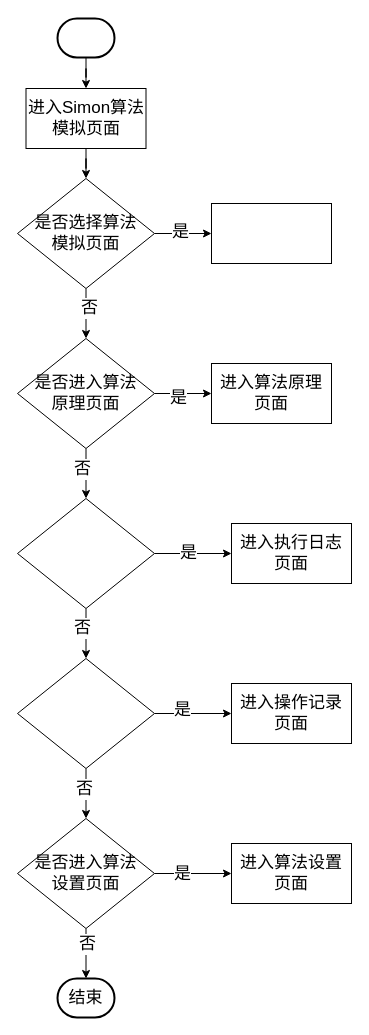
This 369x1035 diagram has some shape labels left out. The centre of each missing label's shape, as x and y in pixels:
"开始" belongs at (85,37).
"是否进入执行 日志页面" belongs at (85,553).
"是否进入操作 记录页面" belongs at (85,713).
"进入算法模拟页面" belongs at (271,233).
